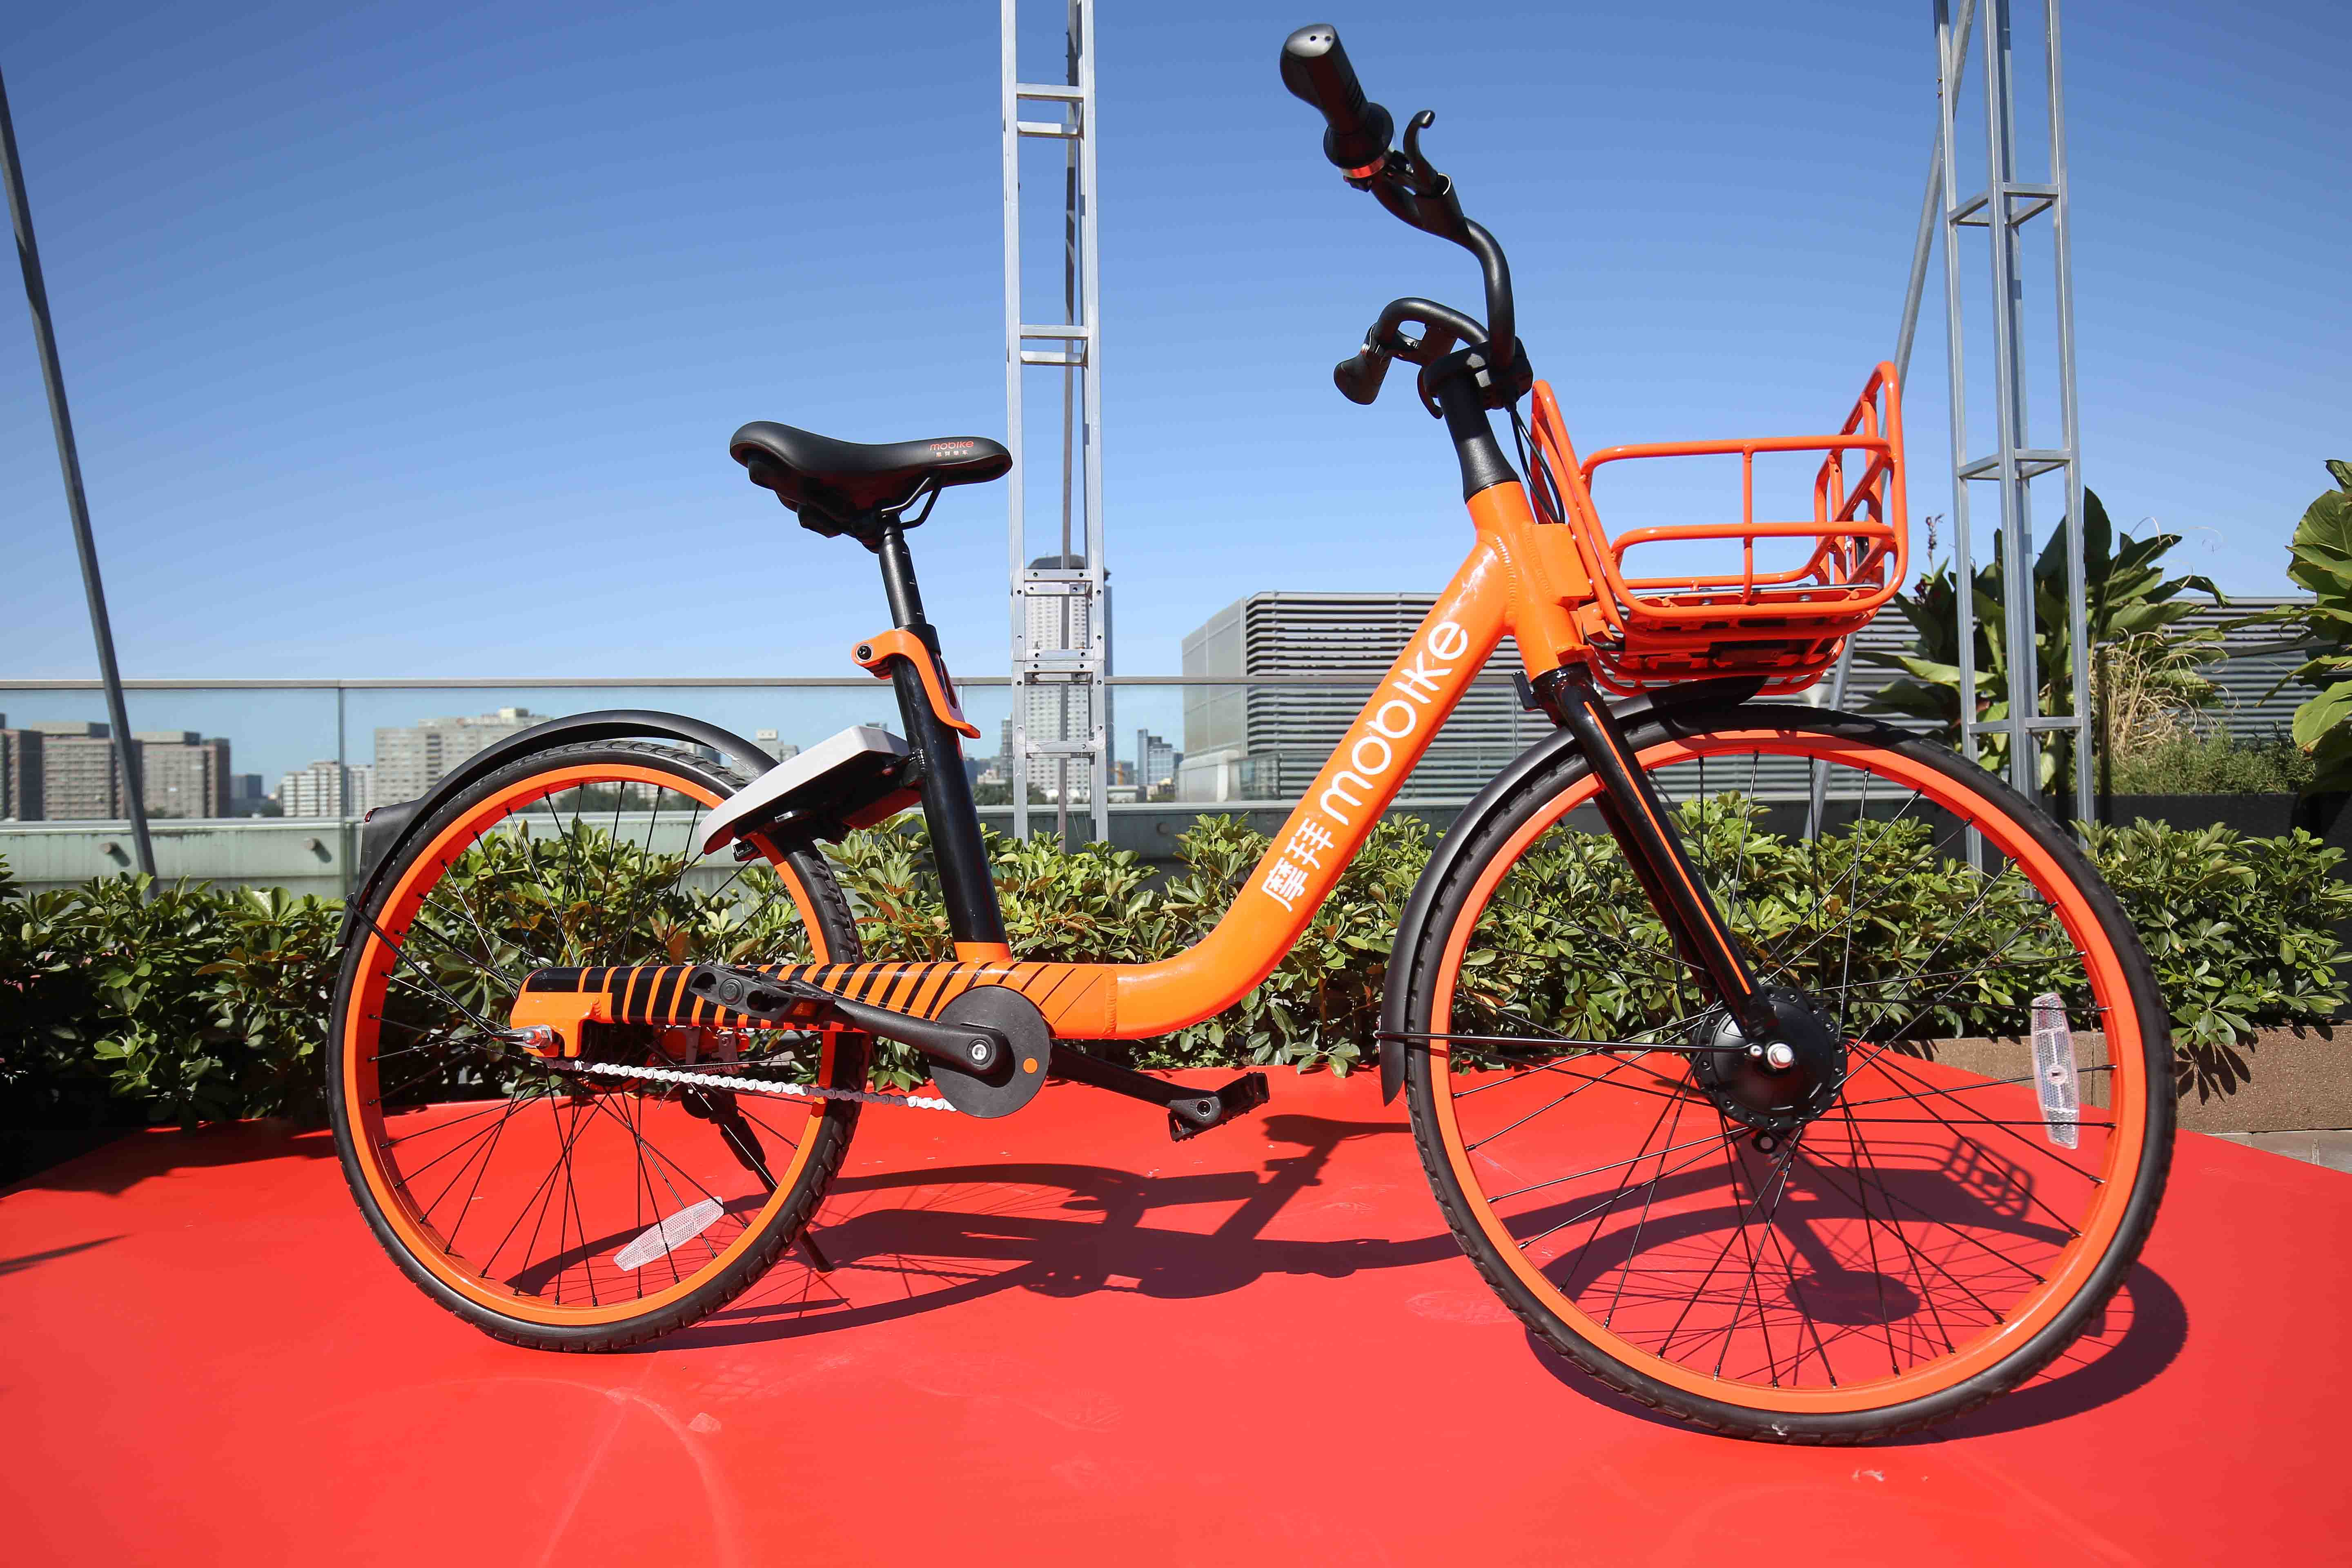MNV: (336, 31, 2179, 1435)
